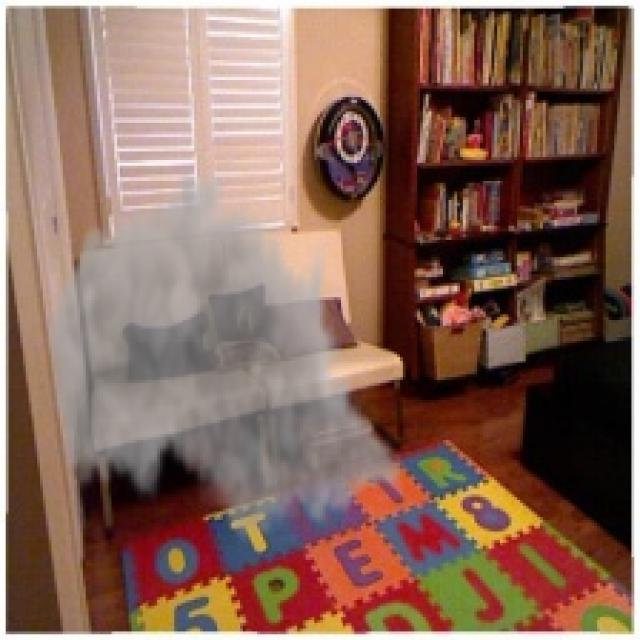smoke: (43, 157, 408, 552)
